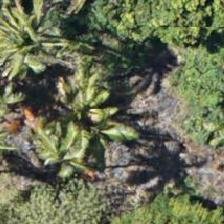coconut_tree: (26, 105, 116, 195), (0, 0, 66, 80)
